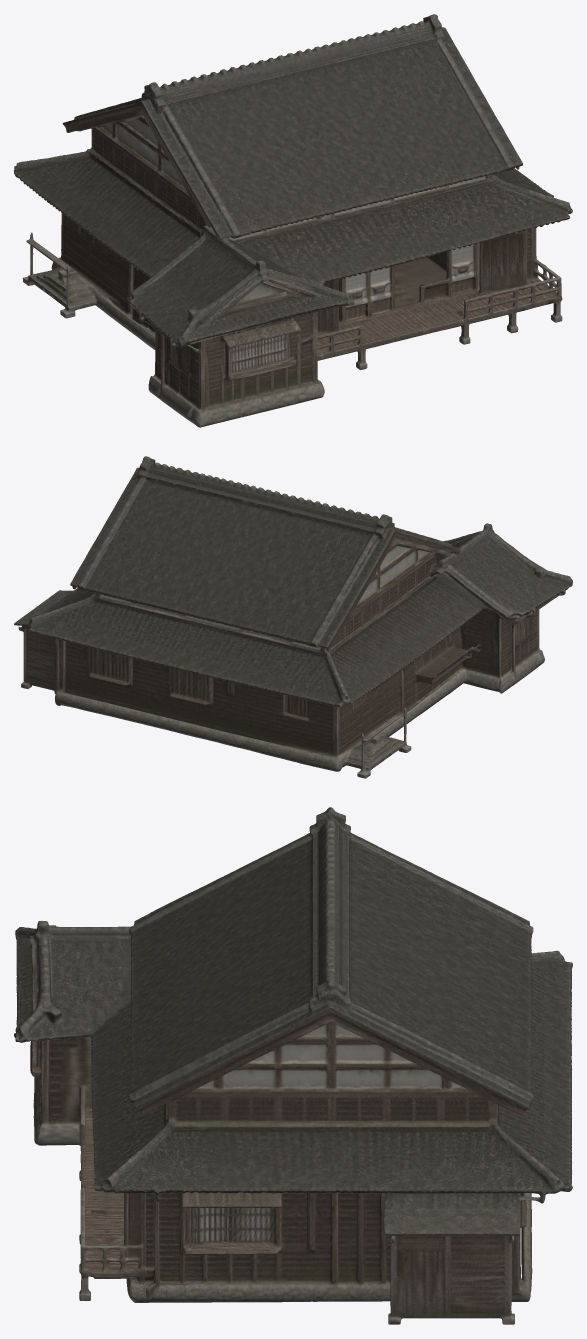
The model's file is village_house7.glb.
3 renders of one model, top to bottom at view 1: azimuth 30°, elevation 25°; view 2: azimuth 150°, elevation 25°; view 3: azimuth 270°, elevation 25°, orthographic. The views are drawn at different scales.
Parts seen in each view (by area): view 1: mesh_node; view 2: mesh_node; view 3: mesh_node.
Part boxes in pixels (x1,y1,x2,y2): mesh_node: [14, 14, 572, 427]; mesh_node: [14, 456, 572, 778]; mesh_node: [14, 807, 572, 1324].
Size of the model in its own units: 1.9 by 0.9644 by 1.59.
1 material, 1 textured.
